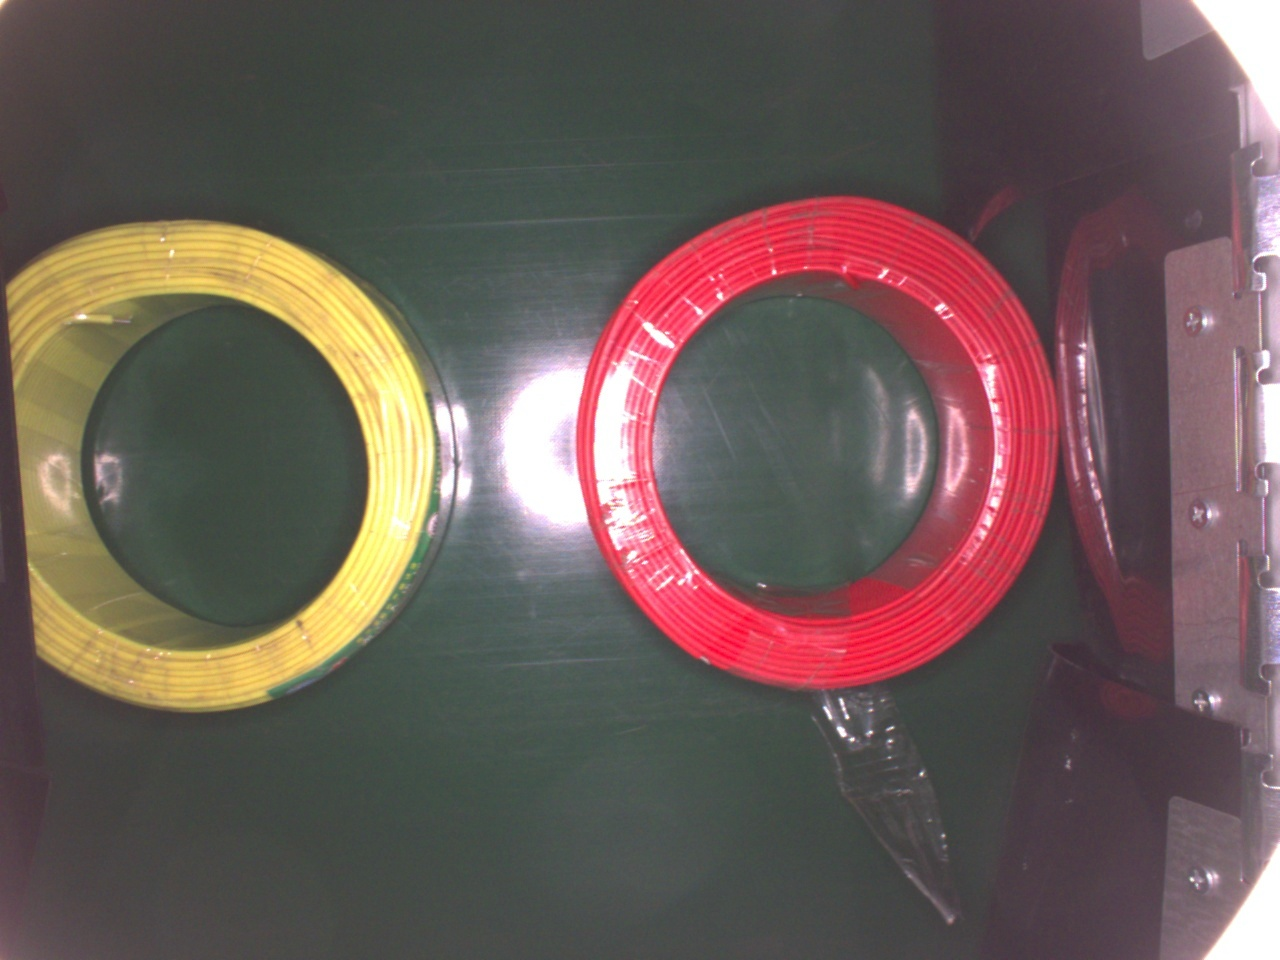red: (573, 191, 1061, 692)
yellow: (0, 214, 460, 715)
